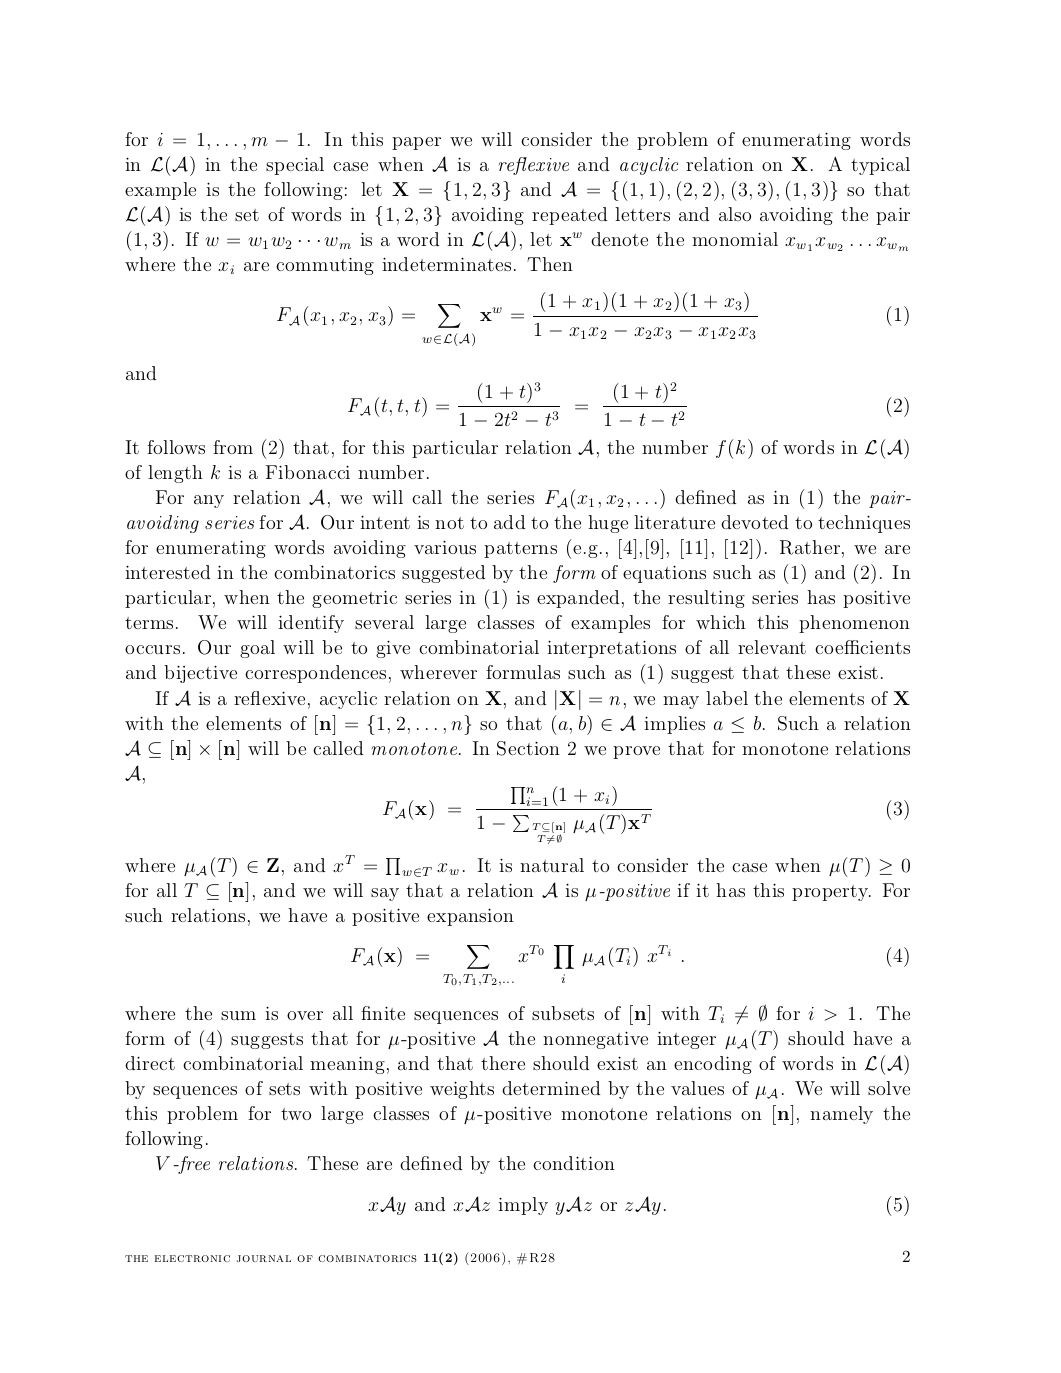formula: (278, 291, 908, 347), (383, 785, 908, 844), (348, 382, 908, 426), (351, 945, 908, 985), (368, 1195, 908, 1216)
